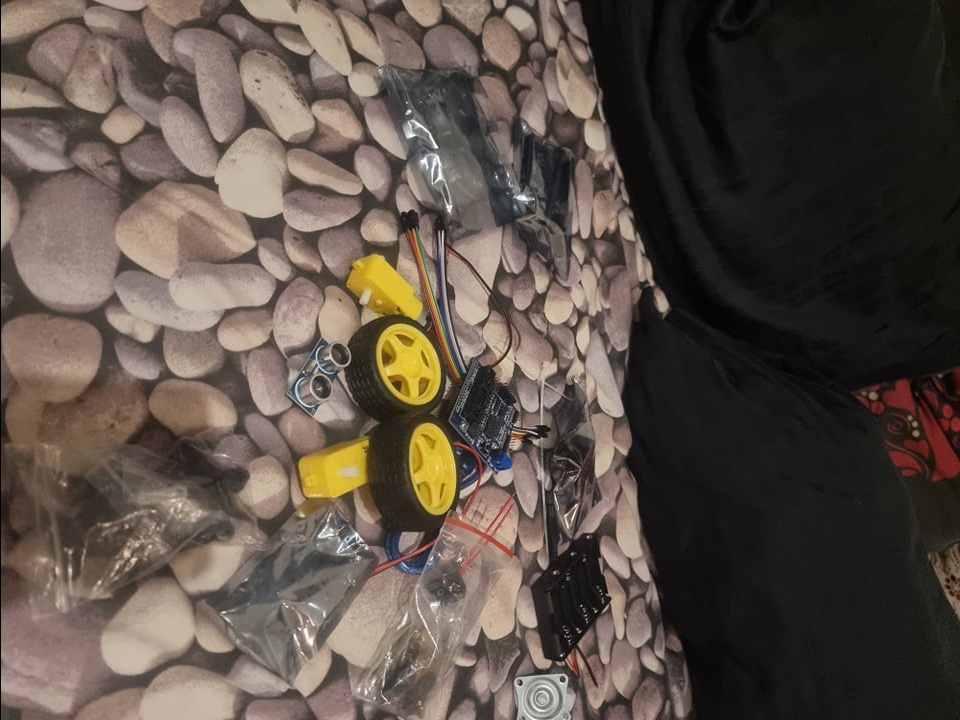5V EXPANSION: (446, 357, 520, 475)
BATTERY BOX: (530, 534, 613, 664)
SENSOR: (284, 336, 350, 419)
